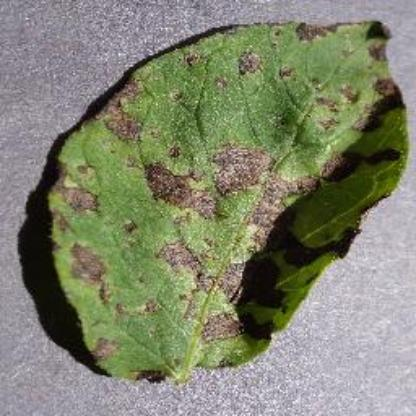Early-Blight: (45, 16, 411, 384)
